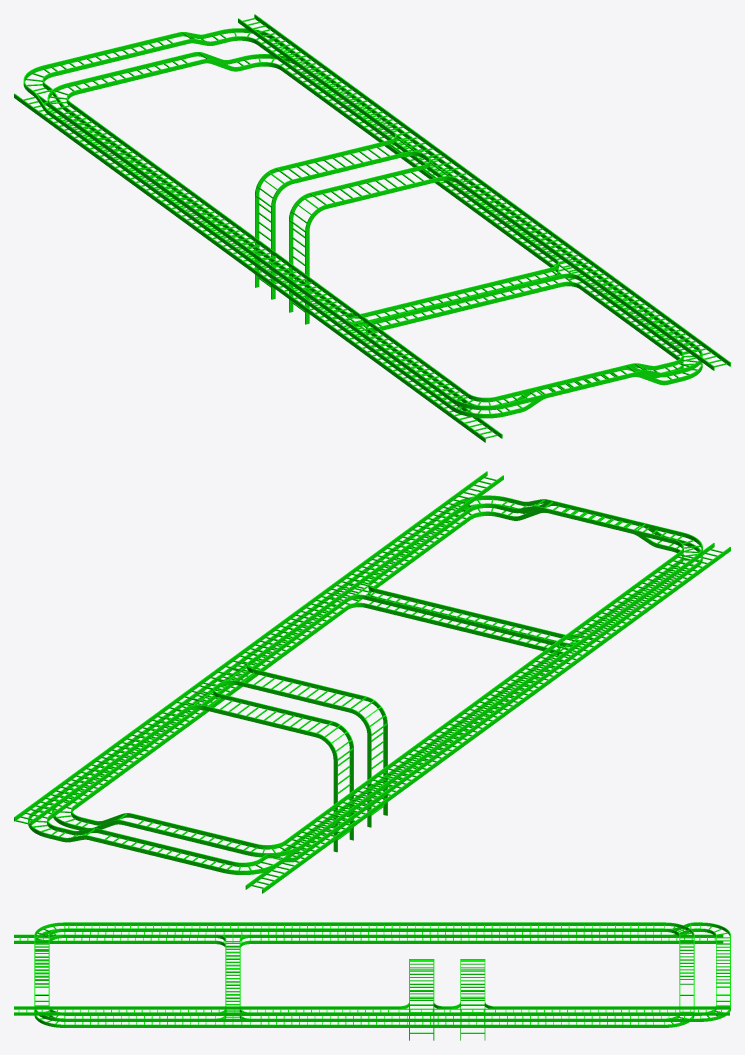
File: Electrico.fbx
3 views of the same model, one above another, from view 1: azimuth 30°, elevation 25°; view 2: azimuth 150°, elevation 25°; view 3: azimuth 270°, elevation 25° (orthographic). The views are drawn at different scales.
Parts seen in each view (by area): view 1: Bandeja de cables con uniones EPC-FZ [616149], Bandeja de cables con uniones EPC-FZ [616415], Bandeja de cables con uniones EPC-FZ [615986], Bandeja de cables con uniones EPC-FZ [616079], Bandeja de cables con uniones EPC-FZ [615500], Bandeja de cables con uniones EPC-FZ [615999], Bandeja de cables con uniones EPC-FZ [614838], Bandeja de cables con uniones EPC-FZ [615987], Bandeja de cables con uniones EPC-FZ [616532], Bandeja de cables con uniones EPC-FZ [616438], Bandeja de cables con uniones EPC-FZ [616408], Bandeja de cables con uniones EPC-FZ [616482] (+8 smaller); view 2: Bandeja de cables con uniones EPC-FZ [616149], Bandeja de cables con uniones EPC-FZ [616415], Bandeja de cables con uniones EPC-FZ [615986], Bandeja de cables con uniones EPC-FZ [616079], Bandeja de cables con uniones EPC-FZ [615500], Bandeja de cables con uniones EPC-FZ [615999], Bandeja de cables con uniones EPC-FZ [614838], Bandeja de cables con uniones EPC-FZ [615987], Bandeja de cables con uniones EPC-FZ [616532], Bandeja de cables con uniones EPC-FZ [616438], Bandeja de cables con uniones EPC-FZ [616408], Bandeja de cables con uniones EPC-FZ [616482] (+8 smaller); view 3: Bandeja de cables con uniones EPC-FZ [616149], Bandeja de cables con uniones EPC-FZ [616415], Bandeja de cables con uniones EPC-FZ [615986], Bandeja de cables con uniones EPC-FZ [615500], Bandeja de cables con uniones EPC-FZ [615999], Bandeja de cables con uniones EPC-FZ [616079], Bandeja de cables con uniones EPC-FZ [614838], Bandeja de cables con uniones EPC-FZ [615543], Bandeja de cables con uniones EPC-FZ [615989], Bandeja de cables con uniones EPC-FZ [615987], Bandeja de cables con uniones EPC-FZ [614923], Bandeja de cables con uniones EPC-FZ [616081] (+17 smaller).
Boxes of the visible parts, bbox=[...] form: Bandeja de cables con uniones EPC-FZ [616149]: bbox=[55, 103, 466, 400]; Bandeja de cables con uniones EPC-FZ [616415]: bbox=[459, 176, 730, 370]; Bandeja de cables con uniones EPC-FZ [615986]: bbox=[259, 38, 571, 262]; Bandeja de cables con uniones EPC-FZ [616079]: bbox=[50, 108, 342, 317]; Bandeja de cables con uniones EPC-FZ [615500]: bbox=[14, 93, 337, 325]; Bandeja de cables con uniones EPC-FZ [615999]: bbox=[238, 14, 408, 134]; Bandeja de cables con uniones EPC-FZ [614838]: bbox=[283, 68, 566, 267]; Bandeja de cables con uniones EPC-FZ [615987]: bbox=[367, 268, 558, 323]; Bandeja de cables con uniones EPC-FZ [616532]: bbox=[47, 33, 185, 75]; Bandeja de cables con uniones EPC-FZ [616438]: bbox=[279, 141, 402, 183]; Bandeja de cables con uniones EPC-FZ [616408]: bbox=[314, 166, 436, 207]; Bandeja de cables con uniones EPC-FZ [616482]: bbox=[71, 53, 199, 93]; Bandeja de cables con uniones EPC-FZ [616149]: bbox=[286, 552, 695, 847]; Bandeja de cables con uniones EPC-FZ [616415]: bbox=[235, 471, 503, 663]; Bandeja de cables con uniones EPC-FZ [615986]: bbox=[35, 595, 345, 817]; Bandeja de cables con uniones EPC-FZ [616079]: bbox=[282, 651, 572, 858]; Bandeja de cables con uniones EPC-FZ [615500]: bbox=[245, 662, 572, 893]; Bandeja de cables con uniones EPC-FZ [615999]: bbox=[14, 705, 184, 825]; Bandeja de cables con uniones EPC-FZ [614838]: bbox=[61, 607, 345, 807]; Bandeja de cables con uniones EPC-FZ [615987]: bbox=[369, 589, 558, 644]; Bandeja de cables con uniones EPC-FZ [616532]: bbox=[92, 829, 229, 871]; Bandeja de cables con uniones EPC-FZ [616438]: bbox=[207, 694, 329, 736]; Bandeja de cables con uniones EPC-FZ [616408]: bbox=[241, 670, 362, 711]; Bandeja de cables con uniones EPC-FZ [616482]: bbox=[125, 814, 253, 854]; Bandeja de cables con uniones EPC-FZ [616149]: bbox=[67, 922, 661, 931]; Bandeja de cables con uniones EPC-FZ [616415]: bbox=[14, 1006, 396, 1015]; Bandeja de cables con uniones EPC-FZ [615986]: bbox=[253, 1015, 697, 1021]; Bandeja de cables con uniones EPC-FZ [615500]: bbox=[253, 934, 723, 943]; Bandeja de cables con uniones EPC-FZ [615999]: bbox=[498, 1006, 729, 1015]; Bandeja de cables con uniones EPC-FZ [616079]: bbox=[253, 932, 668, 937]; Bandeja de cables con uniones EPC-FZ [614838]: bbox=[253, 1022, 661, 1027]; Bandeja de cables con uniones EPC-FZ [615543]: bbox=[14, 934, 212, 943]; Bandeja de cables con uniones EPC-FZ [615989]: bbox=[67, 1015, 212, 1021]; Bandeja de cables con uniones EPC-FZ [615987]: bbox=[225, 940, 240, 1006]; Bandeja de cables con uniones EPC-FZ [614923]: bbox=[67, 1022, 212, 1027]; Bandeja de cables con uniones EPC-FZ [616081]: bbox=[67, 932, 212, 937].
Size of the model in its own units: 635 by 283 by 2129.
